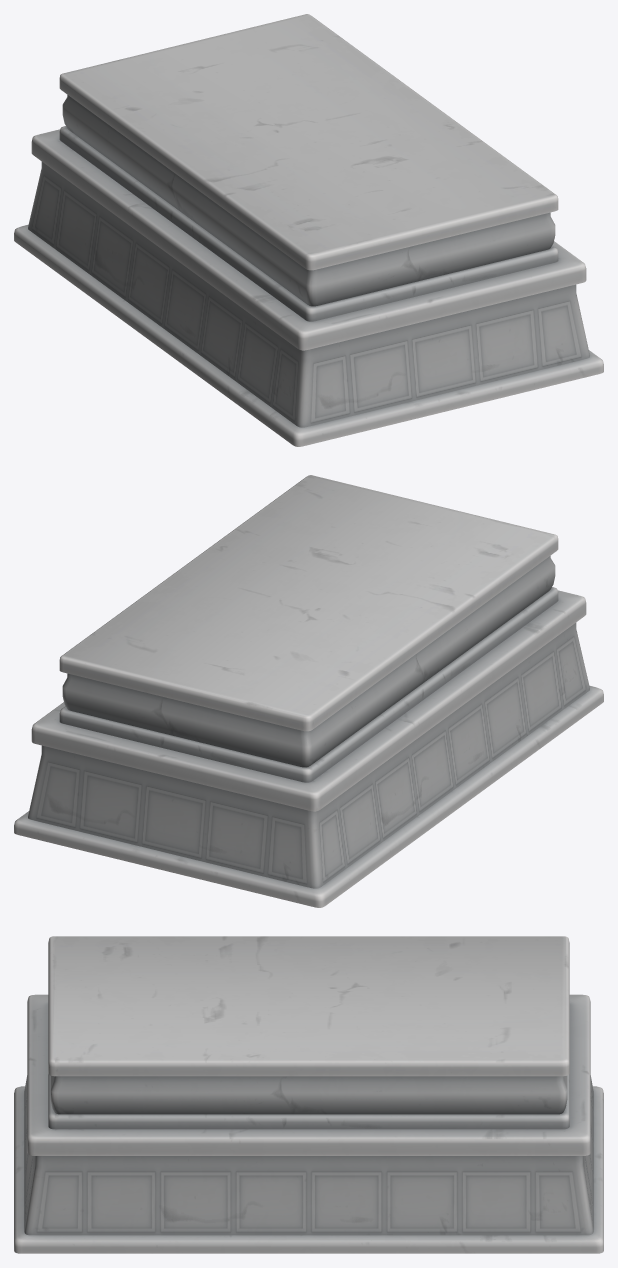
File: ParkPedestal01_2.FBX
3 renders of one model, top to bottom at view 1: azimuth 30°, elevation 25°; view 2: azimuth 150°, elevation 25°; view 3: azimuth 270°, elevation 25°, orthographic. The views are drawn at different scales.
Parts seen in each view (by area): view 1: ParkPedestal01_2; view 2: ParkPedestal01_2; view 3: ParkPedestal01_2.
Boxes of the visible parts, x1,y1,x2,y2 form: ParkPedestal01_2: [14, 14, 603, 446]; ParkPedestal01_2: [14, 475, 603, 907]; ParkPedestal01_2: [14, 936, 603, 1253].
Size of what is drawn, in the model's own units: 1.9 by 1 by 3.02.
